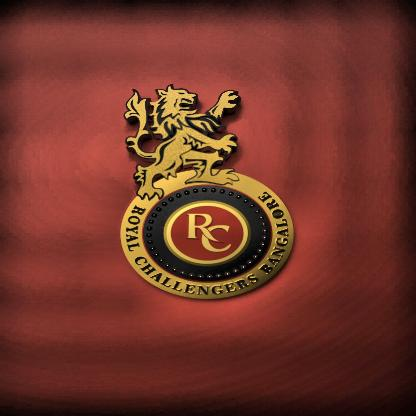Royal Challengers Bangalore: (115, 82, 304, 311)
